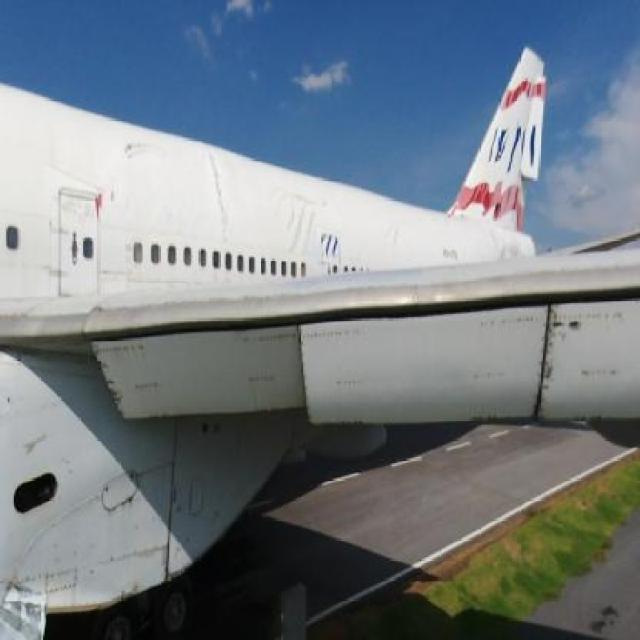Scartch: (545, 310, 580, 388), (97, 349, 132, 411)
